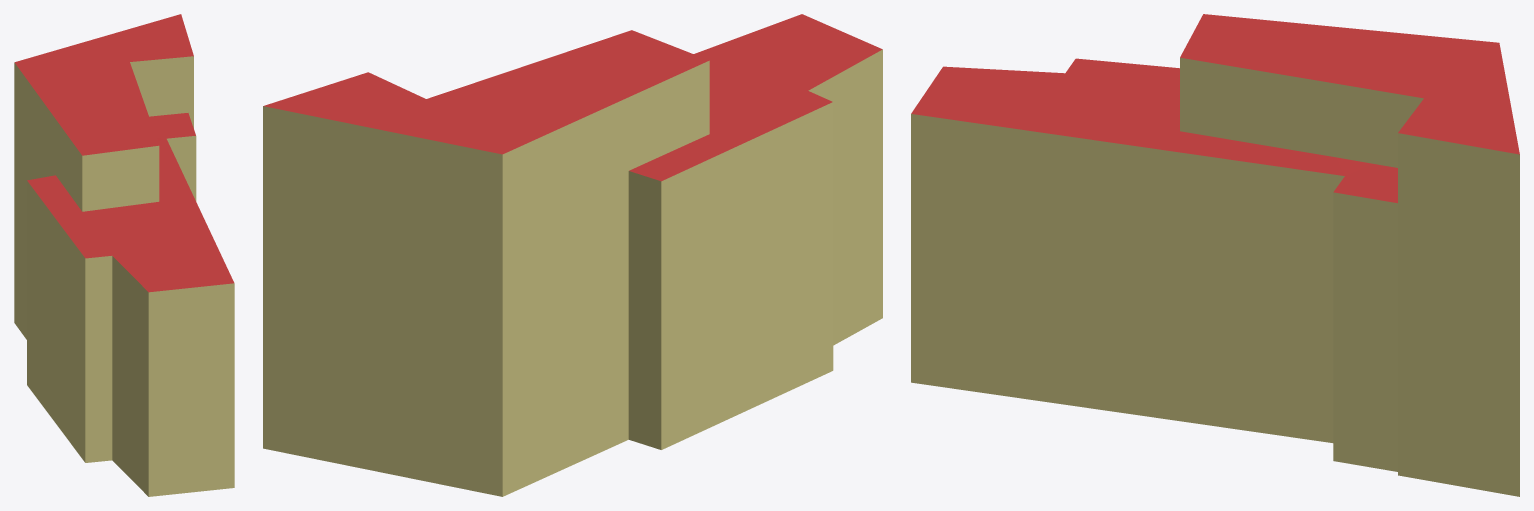
The picture shows the model from 3 angles, left to right: view 1: azimuth 30°, elevation 25°; view 2: azimuth 150°, elevation 25°; view 3: azimuth 270°, elevation 25°; orthographic projection. The views are drawn at different scales.
Parts seen in each view (by area): view 1: group_4, group_7, group_3, group_6; view 2: group_7, group_4, group_6, group_3; view 3: group_4, group_7, group_6, group_3.
Part boxes in pixels (<box>): group_4: <box>27,136,234,496</box>; group_7: <box>14,56,193,339</box>; group_3: <box>27,113,234,292</box>; group_6: <box>14,14,193,155</box>; group_7: <box>263,60,709,496</box>; group_4: <box>628,49,882,449</box>; group_6: <box>263,30,709,154</box>; group_3: <box>629,14,882,181</box>; group_4: <box>911,114,1397,471</box>; group_7: <box>1180,57,1519,496</box>; group_6: <box>1180,14,1519,154</box>; group_3: <box>911,58,1397,203</box>.
Size of the model in its own units: 14.2 by 21.54 by 13.36.
